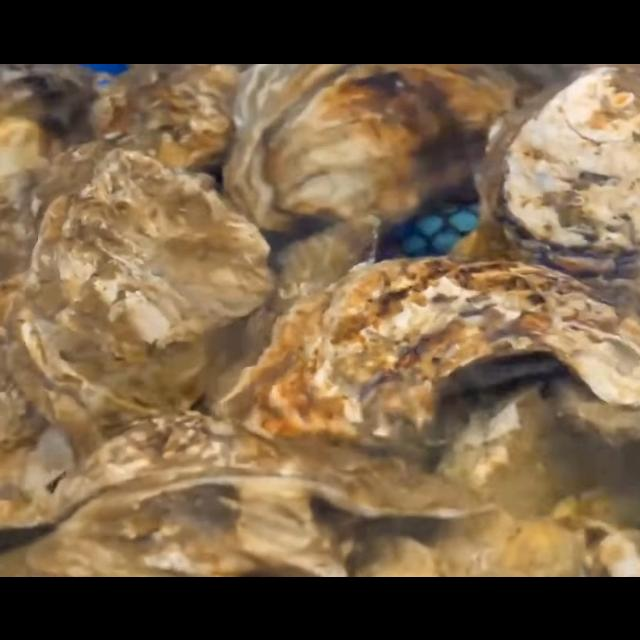Oyster-Closed: (221, 256, 639, 450), (16, 146, 272, 444), (220, 63, 518, 235), (400, 382, 640, 576), (472, 63, 640, 291), (86, 63, 238, 173)
Oyster-Open: (0, 414, 490, 576)
